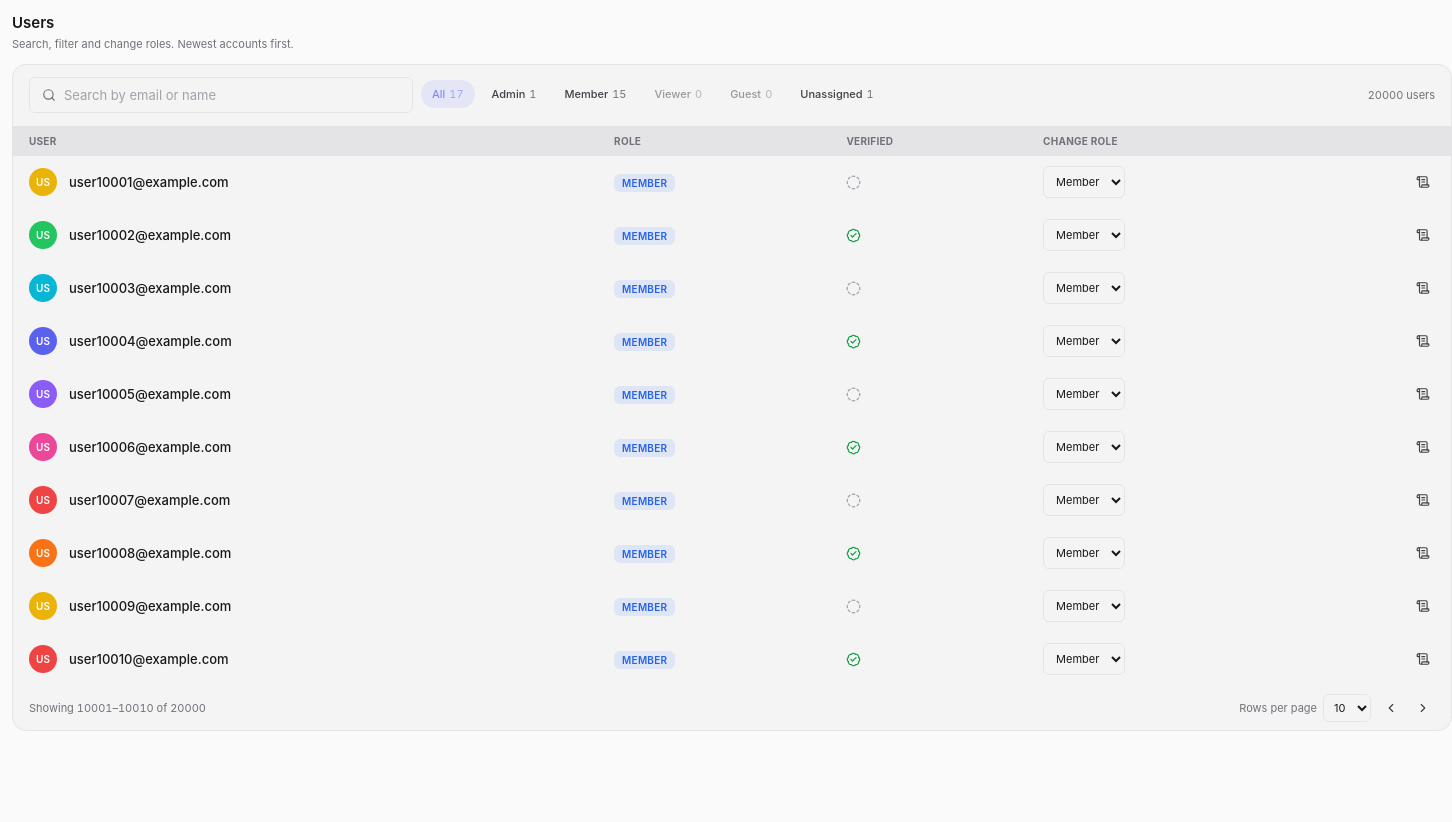
Test case: UsersSection › waits for the page it asked for before Next leads on
Expected: the text "user10001@example.com" is shown, x1=69 y1=173 x2=228 y2=191
Step 1. Click the button named "Next page" → (1423, 708), box x1=1411 y1=696 x2=1435 y2=720
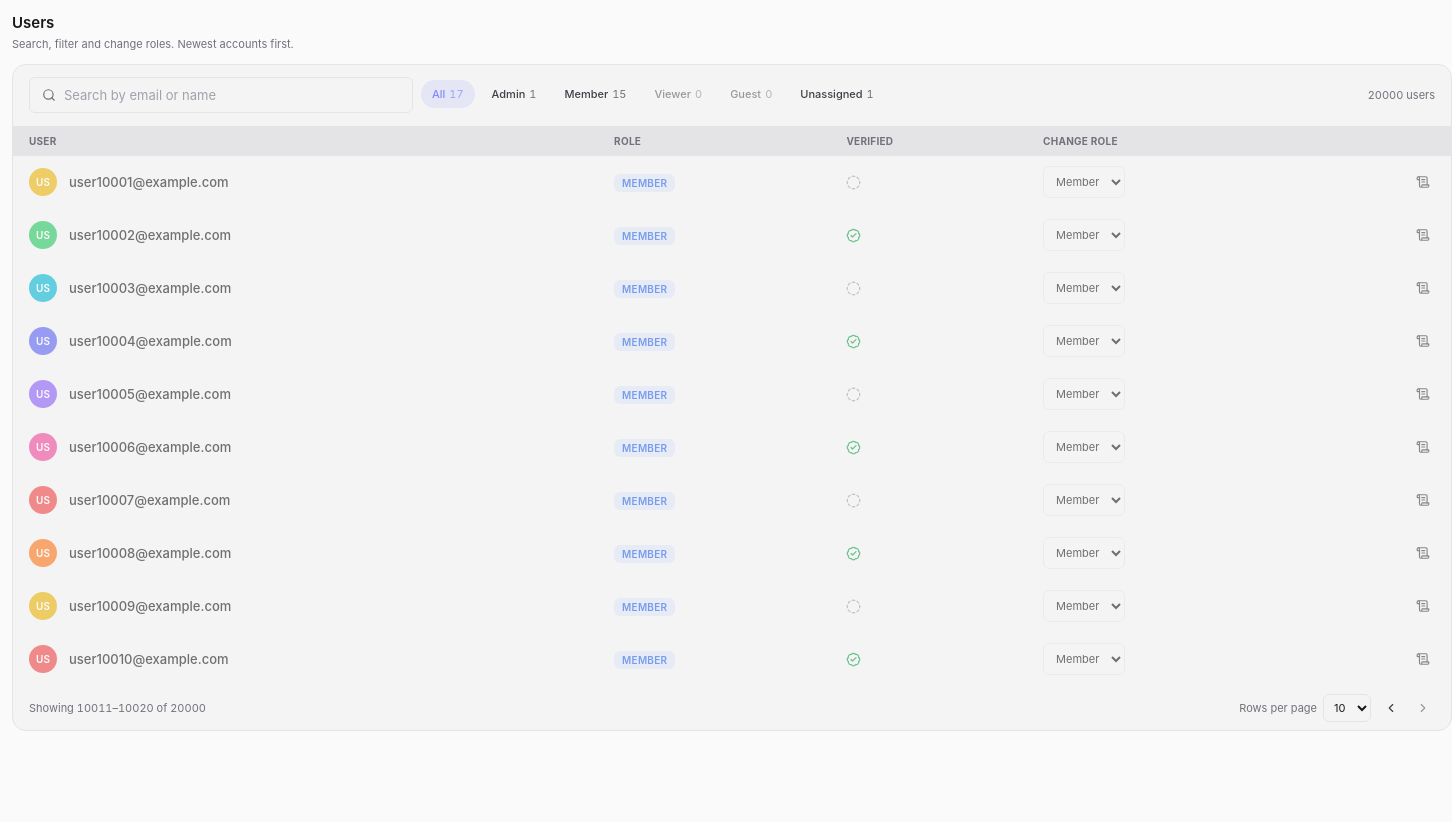
Expected: the button named "Next page" is disabled
Step 2. Click the button named "Next page" → (1423, 708), box x1=1411 y1=696 x2=1435 y2=720
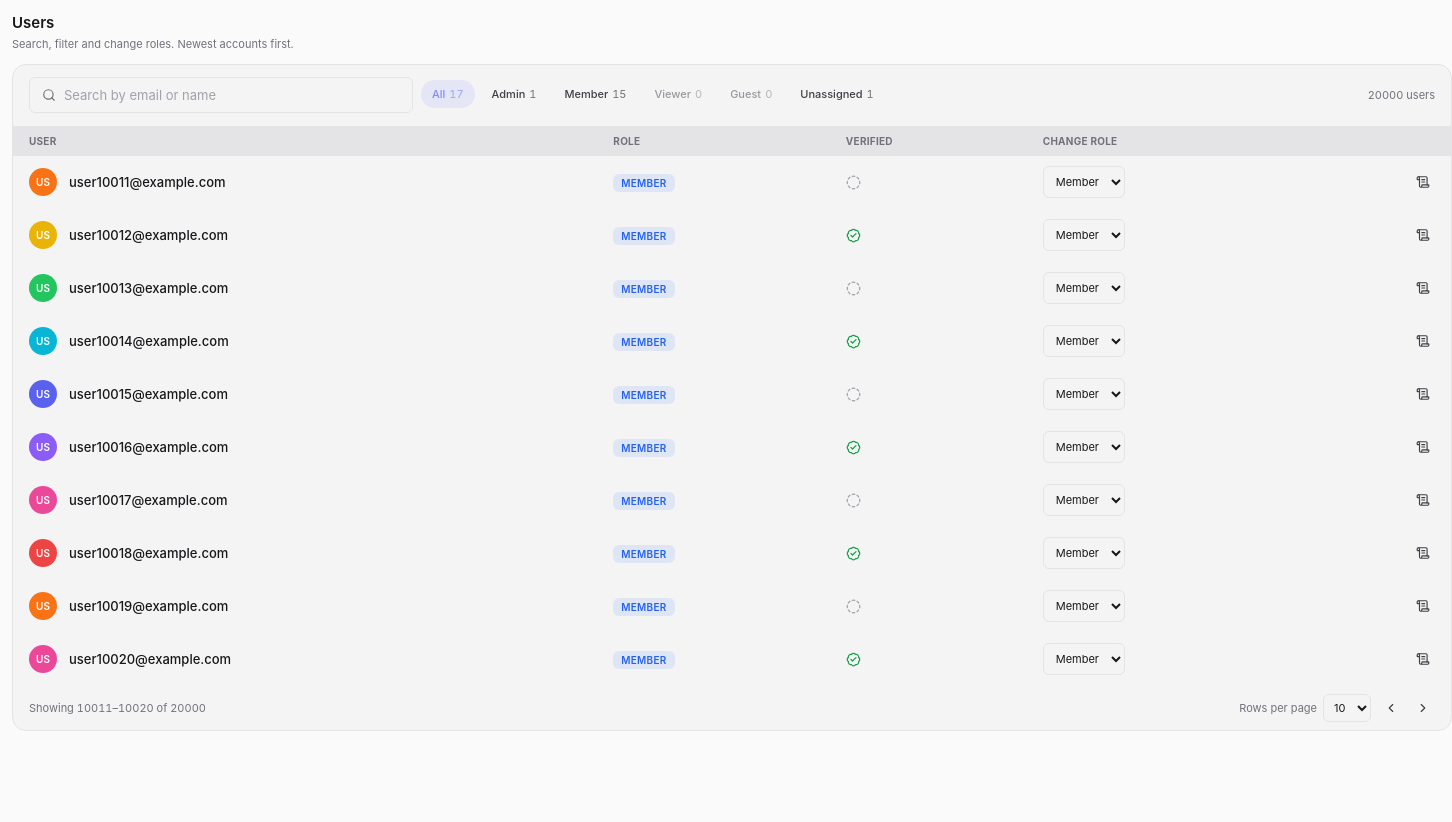
Expected: the text "user10011@example.com" is shown, x1=69 y1=173 x2=226 y2=191
Step 3. Click the button named "Next page" → (1423, 708), box x1=1411 y1=696 x2=1435 y2=720
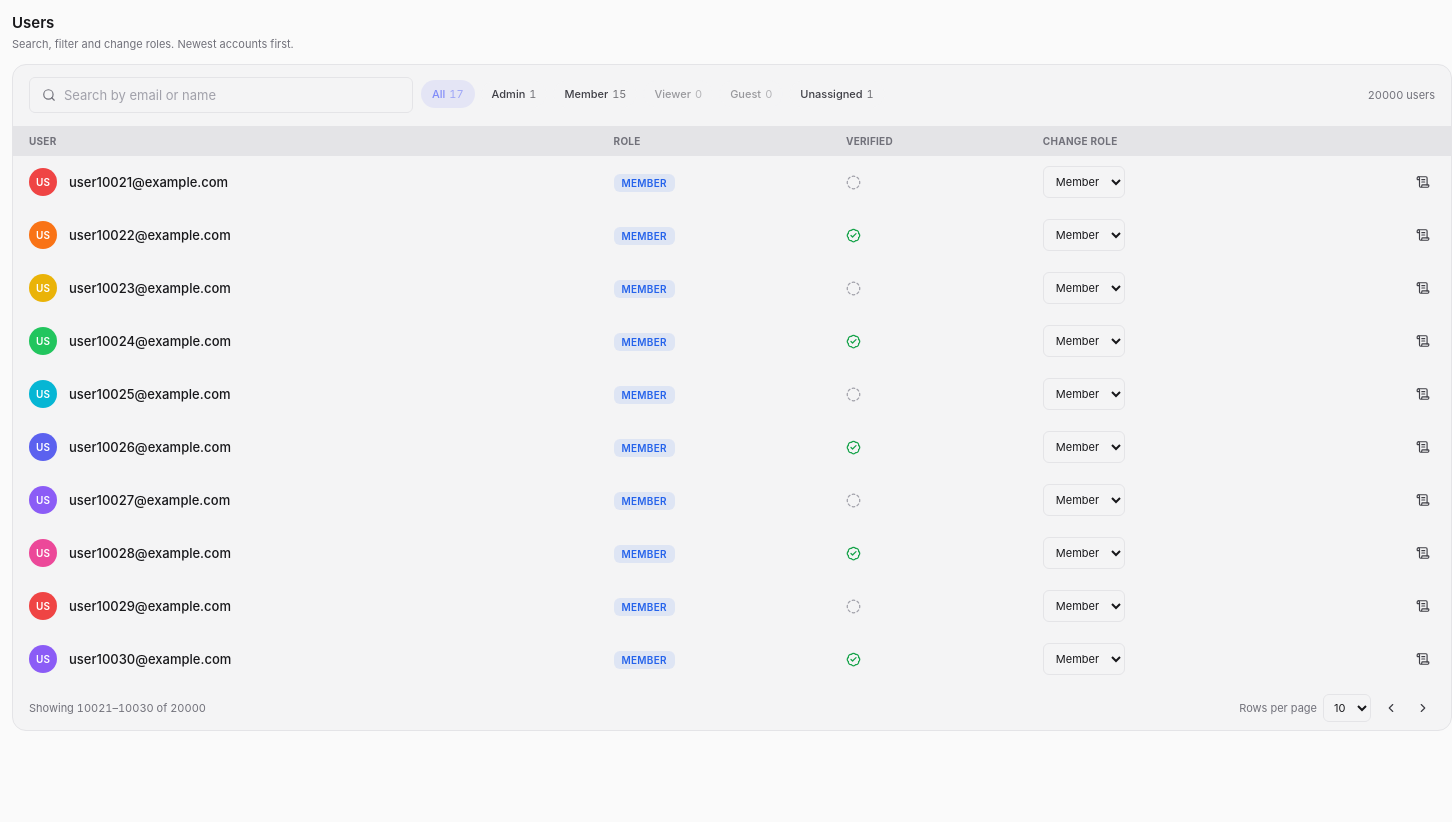
Expected: the text "user10021@example.com" is shown, x1=69 y1=173 x2=228 y2=191
